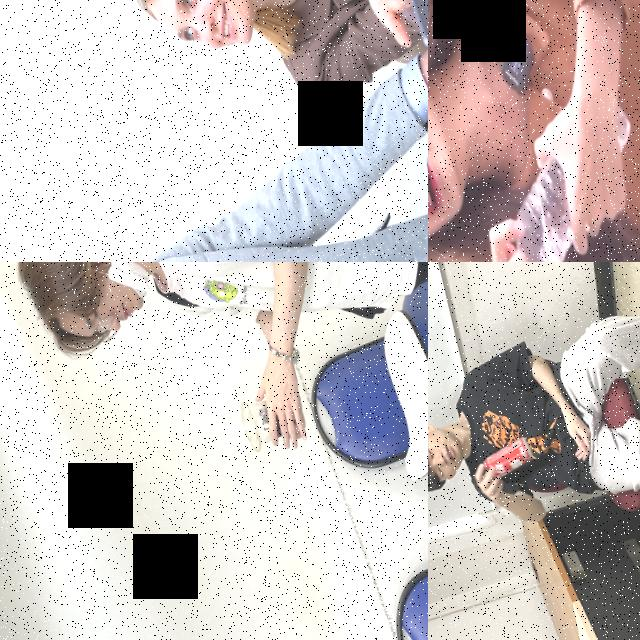bottle: (480, 77, 640, 262)
can: (478, 432, 538, 484)
cup: (235, 384, 302, 457)
